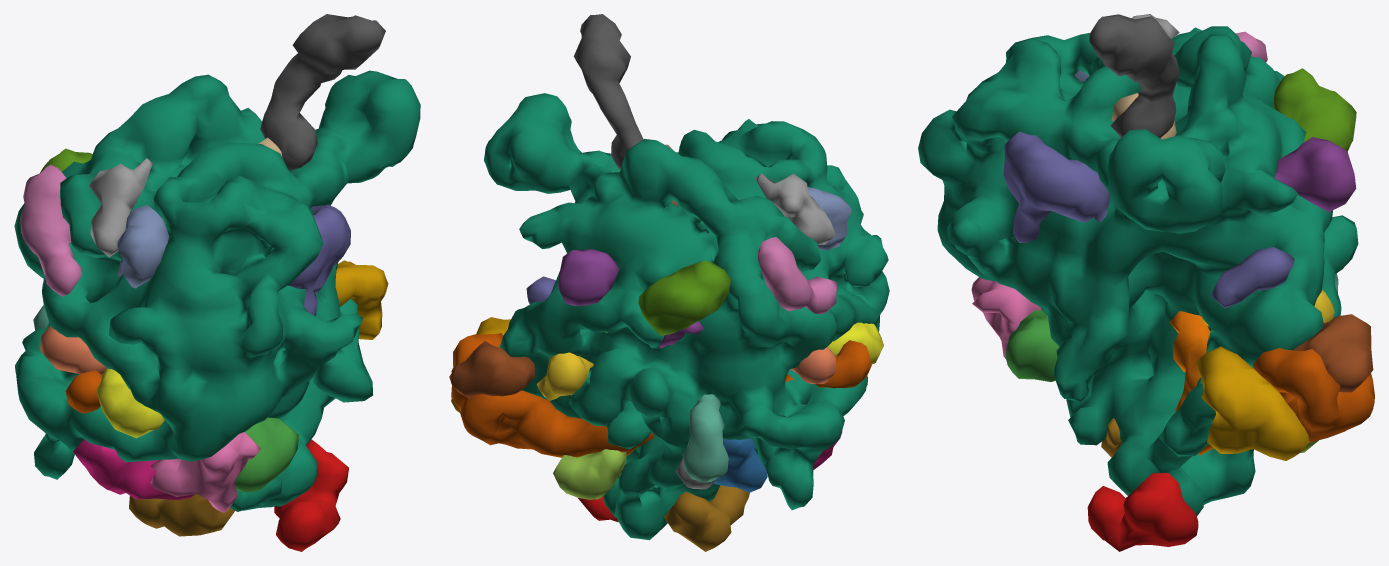
3 views of the same model, side by side, from view 1: azimuth 30°, elevation 25°; view 2: azimuth 150°, elevation 25°; view 3: azimuth 270°, elevation 25° (orthographic). The views are drawn at different scales.
Size of the model in its own units: 193 by 252 by 188.
